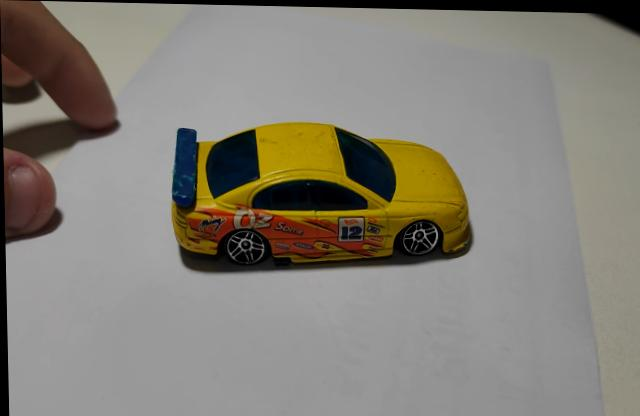02_OZSOME: (170, 122, 471, 268)
